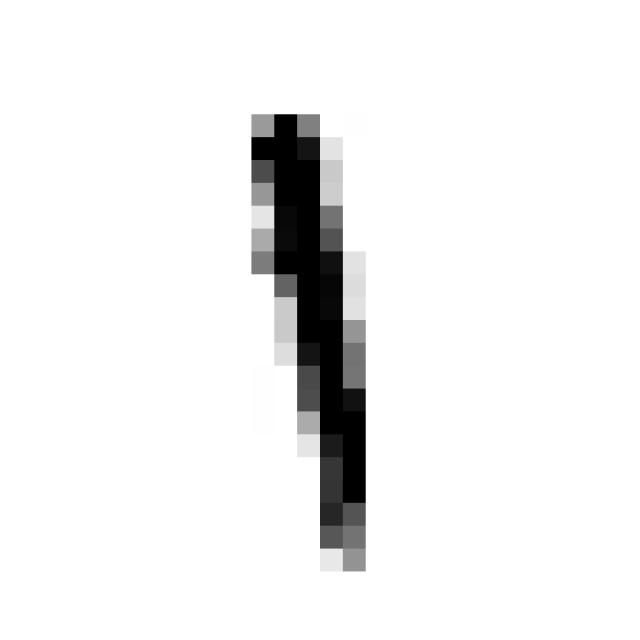1 -one-: (228, 91, 390, 582)
